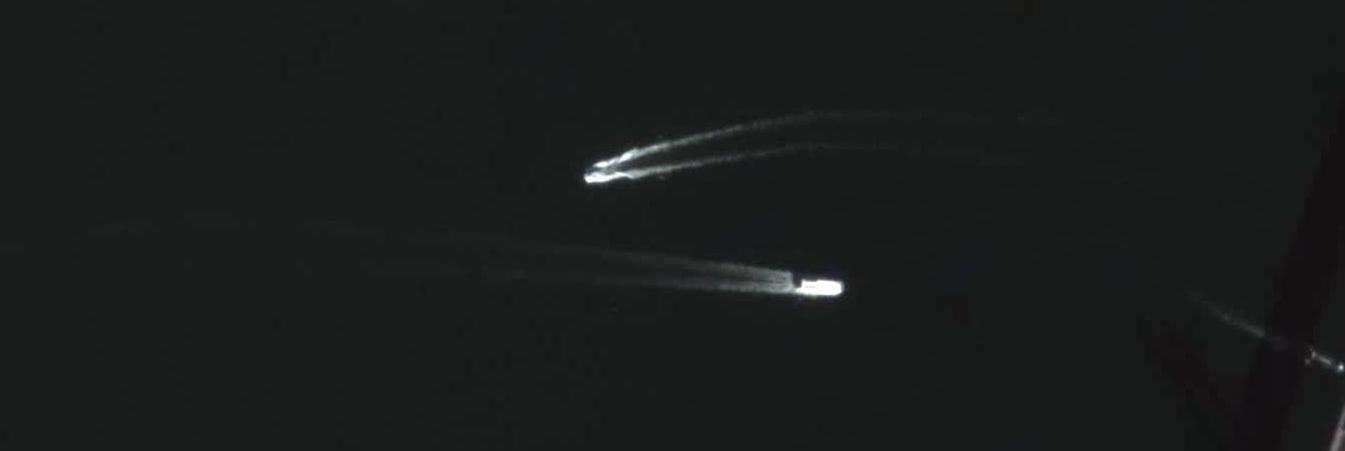person: (802, 279, 842, 297), (584, 165, 604, 174)
